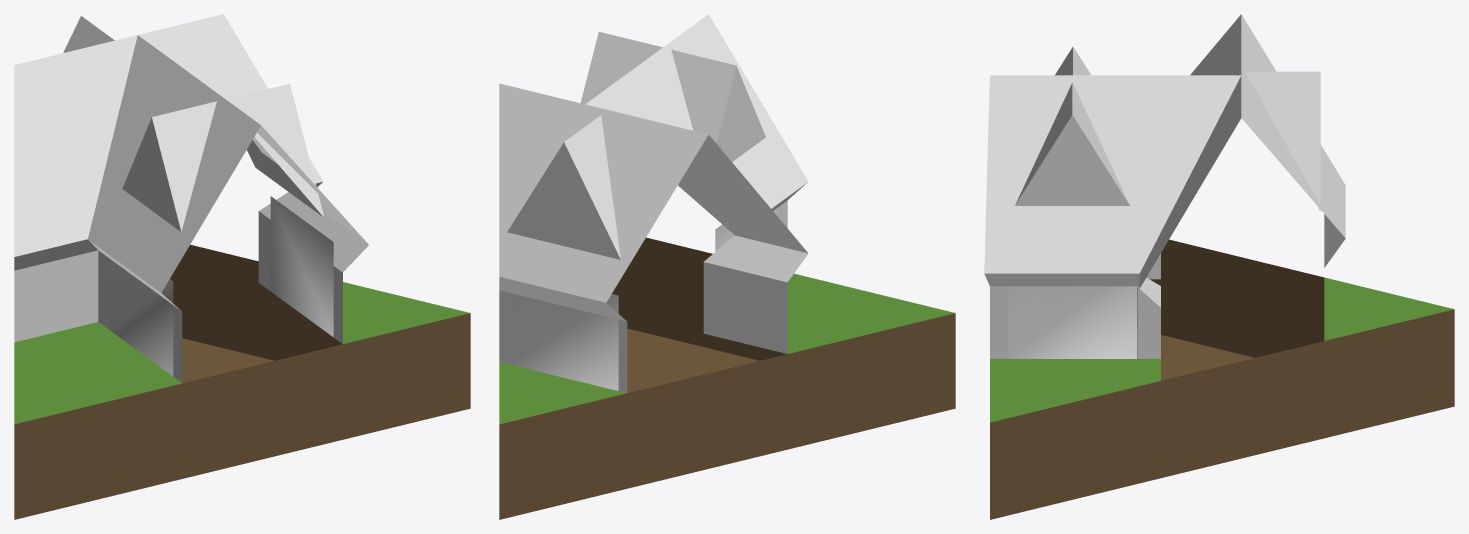
The model's file is Casa_Interseccio_EDE.fbx.
3 renders of one model, left to right at view 1: azimuth 30°, elevation 25°; view 2: azimuth 150°, elevation 25°; view 3: azimuth 270°, elevation 25°, orthographic.
Visible parts, largest first — view 1: Casa_Interseccio_EDE, DetallTeulada.013, DetallParet.014, DetallTeulada.012, DetallParet.012, DetallTeulada.036; view 2: Casa_Interseccio_EDE, DetallTeulada.036, DetallParet.015, DetallTeulada.013, DetallTeulada.012; view 3: Casa_Interseccio_EDE, DetallParet.014, DetallTeulada.012, DetallTeulada.036, DetallTeulada.013.
Part boxes in pixels (left/top/right/bottom): Casa_Interseccio_EDE: left=14, top=14, right=470, bottom=519; DetallTeulada.013: left=122, top=101, right=216, bottom=251; DetallParet.014: left=270, top=196, right=333, bottom=337; DetallTeulada.012: left=226, top=84, right=324, bottom=217; DetallParet.012: left=110, top=259, right=173, bottom=376; DetallTeulada.036: left=63, top=16, right=114, bottom=52; Casa_Interseccio_EDE: left=499, top=14, right=955, bottom=519; DetallTeulada.036: left=507, top=115, right=620, bottom=259; DetallParet.015: left=509, top=293, right=618, bottom=390; DetallTeulada.013: left=671, top=49, right=765, bottom=161; DetallTeulada.012: left=580, top=32, right=662, bottom=104; Casa_Interseccio_EDE: left=984, top=14, right=1454, bottom=519; DetallParet.014: left=1008, top=286, right=1136, bottom=358; DetallTeulada.012: left=1015, top=82, right=1129, bottom=205; DetallTeulada.036: left=1245, top=71, right=1320, bottom=211; DetallTeulada.013: left=1055, top=46, right=1090, bottom=75.
Size of the model in its own units: 100 by 70 by 87.65.
